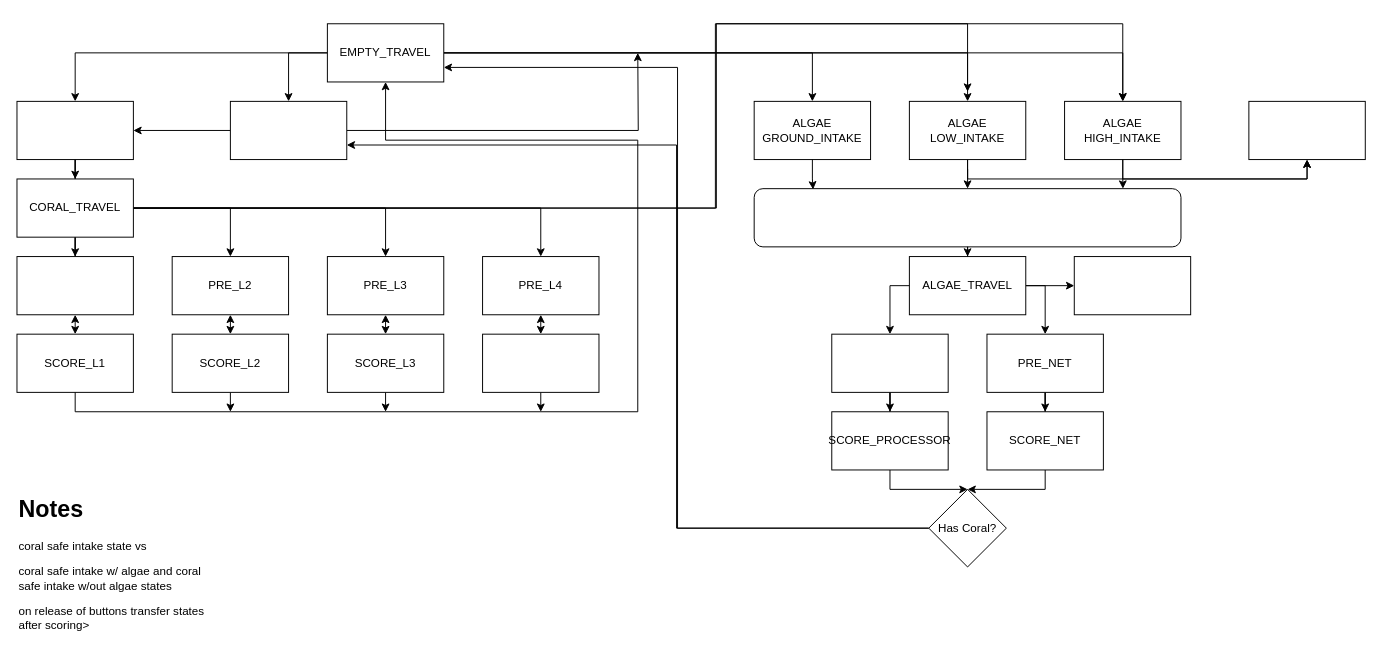
This 1382x669 diagram has some shape labels left out. The centre of each missing label's shape, as x and y in pixels:
"ALGAE_EJECT" belongs at pixel 1132 285.
"ALGAE_KNOCK_OFF" belongs at pixel 1306 130.
"Automate intake wheels" belongs at pixel 967 217.
"CORAL DIRECT_INTAKE" belongs at pixel 74 130.
"CORAL SAFE_INTAKE" belongs at pixel 288 130.
"PRE_L1" belongs at pixel 74 285.
"PRE_PROCESSOR" belongs at pixel 889 362.
"SCORE_L4" belongs at pixel 540 362.
